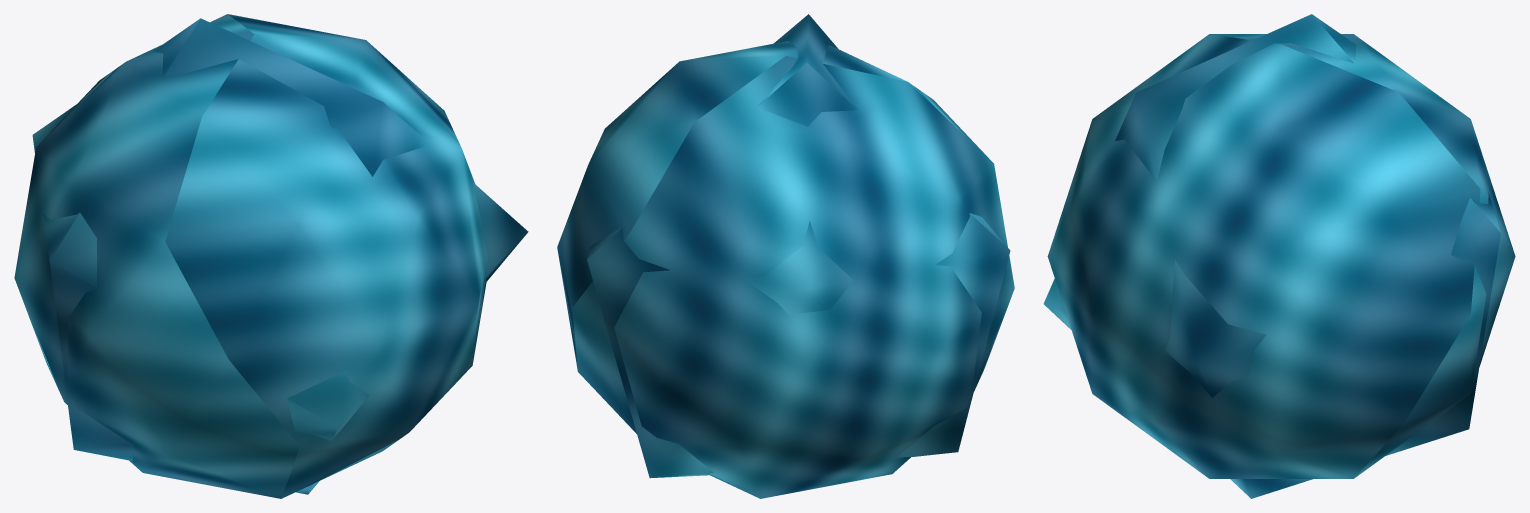
File: cell_pickup.fbx
3 renders of one model, left to right at view 1: azimuth 30°, elevation 25°; view 2: azimuth 150°, elevation 25°; view 3: azimuth 270°, elevation 25°, orthographic. The views are drawn at different scales.
Parts seen in each view (by area): view 1: cell_pickup_VIS, cell_pickup_COL; view 2: cell_pickup_VIS, cell_pickup_COL; view 3: cell_pickup_VIS, cell_pickup_COL.
Part boxes in pixels (x1,y1,x2,y2): cell_pickup_VIS: (14, 14, 488, 498); cell_pickup_COL: (32, 18, 528, 494); cell_pickup_VIS: (557, 41, 1014, 498); cell_pickup_COL: (587, 14, 1010, 478); cell_pickup_VIS: (1047, 34, 1515, 478); cell_pickup_COL: (1043, 14, 1500, 498).
Size of the model in its own units: 63.66 by 63.64 by 60.54.
